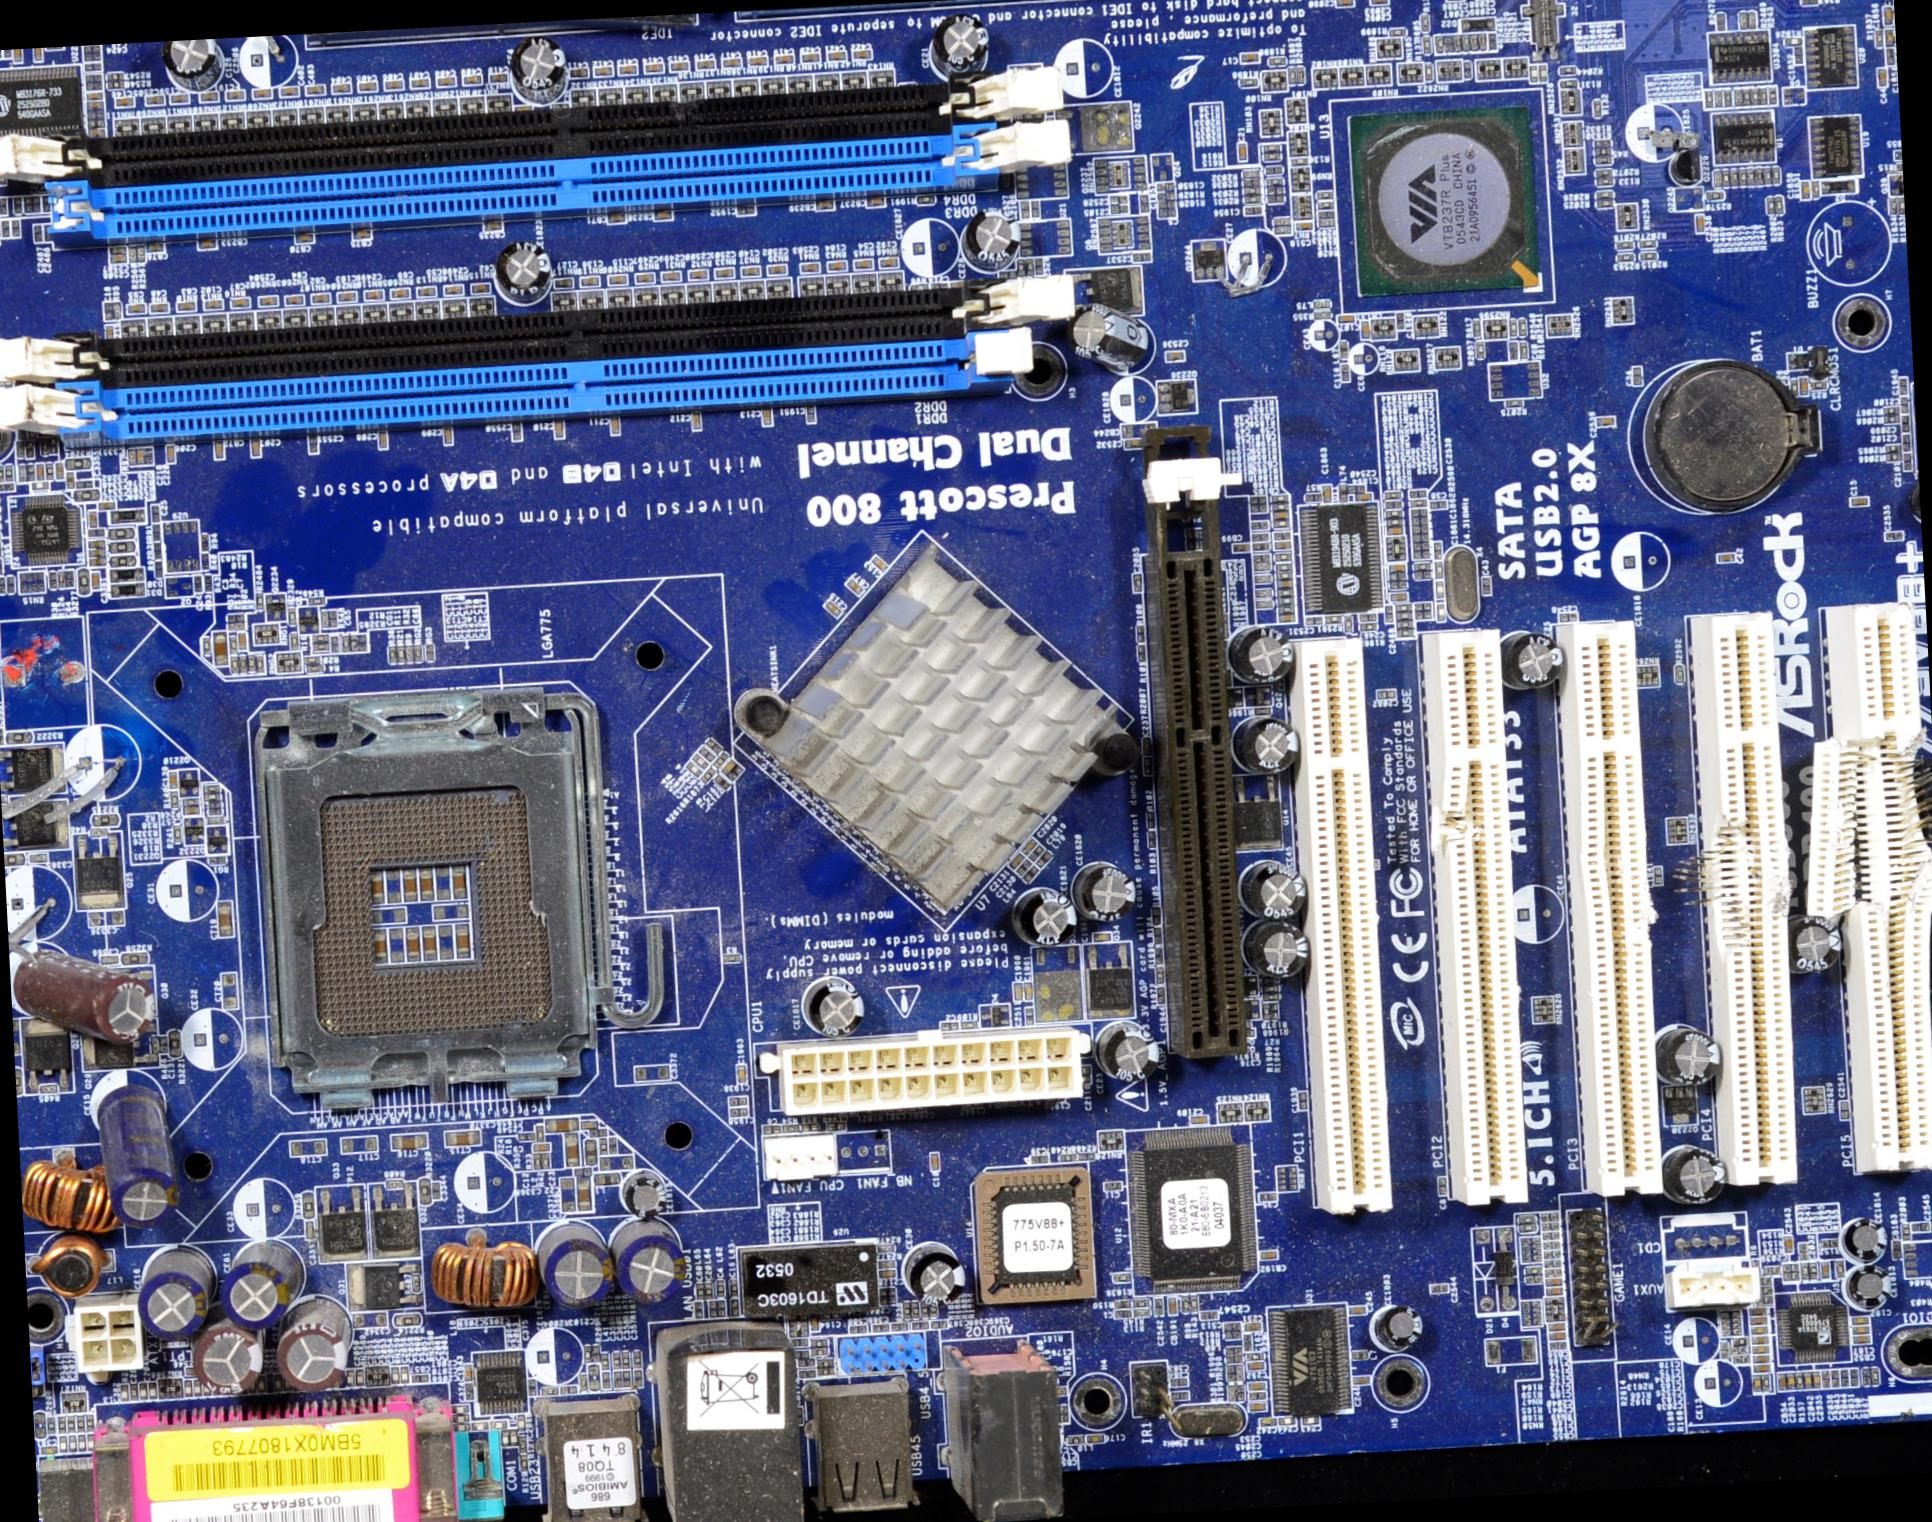Capacitor Jumper: (444, 1130, 480, 1146), (213, 632, 229, 666), (565, 1133, 580, 1166), (216, 900, 231, 936), (392, 1133, 427, 1147), (635, 1066, 668, 1080), (544, 1116, 577, 1130), (577, 1177, 591, 1210), (1595, 414, 1615, 426), (1239, 52, 1259, 63), (1167, 1296, 1178, 1317), (652, 208, 673, 219), (1349, 1304, 1366, 1317), (1276, 1415, 1294, 1428), (852, 49, 870, 60), (463, 74, 481, 85), (488, 72, 507, 83), (279, 86, 298, 97), (1783, 1235, 1794, 1254), (1247, 1361, 1266, 1372), (1247, 1381, 1266, 1392), (1883, 28, 1894, 47), (1877, 67, 1888, 86), (605, 212, 624, 223), (483, 219, 502, 230), (761, 409, 772, 428), (213, 440, 224, 459), (1123, 437, 1142, 448), (1849, 495, 1868, 506), (1850, 1315, 1871, 1325), (1247, 1401, 1267, 1411), (1022, 981, 1033, 998), (1011, 983, 1022, 1000), (384, 78, 401, 89), (146, 94, 163, 105), (1548, 1331, 1565, 1342), (1170, 1378, 1187, 1389), (880, 257, 897, 268), (552, 420, 563, 437), (826, 50, 845, 60), (748, 55, 767, 64), (618, 64, 637, 74), (436, 77, 455, 86), (877, 1268, 895, 1277), (1545, 1287, 1563, 1296), (580, 276, 599, 285), (249, 437, 259, 456), (166, 444, 176, 462), (1800, 376, 1810, 395), (1717, 553, 1736, 563), (801, 52, 817, 63), (1087, 1433, 1102, 1444), (168, 771, 177, 788), (1093, 931, 1110, 940), (670, 61, 687, 71), (729, 1096, 746, 1105), (569, 67, 586, 77), (332, 83, 350, 92), (306, 85, 323, 94), (226, 89, 243, 99), (252, 88, 270, 97), (114, 97, 132, 107), (1882, 6, 1891, 24), (1244, 1321, 1261, 1331), (400, 1365, 409, 1382), (138, 1382, 147, 1400), (39, 1445, 56, 1455), (1170, 1390, 1187, 1400), (1753, 1362, 1770, 1372), (1802, 1372, 1811, 1389), (1777, 1373, 1786, 1390), (1302, 1415, 1319, 1425), (815, 199, 833, 208), (866, 196, 883, 205), (295, 232, 312, 241), (353, 229, 370, 238), (108, 246, 125, 255), (1800, 180, 1810, 197), (828, 260, 845, 270), (801, 262, 819, 271), (688, 270, 706, 279), (635, 273, 652, 282), (662, 273, 679, 282), (554, 277, 571, 287), (444, 285, 461, 295), (365, 290, 383, 299), (232, 298, 249, 307), (285, 295, 303, 304), (692, 411, 701, 428), (442, 426, 452, 444), (376, 431, 386, 448), (33, 47, 42, 64), (808, 1317, 819, 1331), (776, 55, 792, 64), (723, 58, 739, 67), (646, 63, 662, 72), (593, 67, 612, 75), (731, 1108, 746, 1118), (358, 83, 376, 91), (1190, 1114, 1206, 1124), (1261, 1251, 1276, 1260), (1112, 1310, 1131, 1318), (390, 1365, 398, 1384), (1546, 1323, 1565, 1331), (1854, 1334, 1869, 1343), (1752, 1345, 1767, 1354), (1786, 1372, 1796, 1387), (1811, 1372, 1821, 1387), (1752, 1376, 1761, 1392), (1259, 1417, 1275, 1426), (199, 238, 215, 248), (147, 241, 163, 251), (610, 274, 626, 284), (472, 284, 488, 293), (390, 288, 406, 298), (314, 293, 329, 303), (260, 296, 276, 306), (1338, 313, 1356, 321), (1360, 321, 1369, 337), (1165, 353, 1184, 361), (610, 417, 618, 436), (135, 448, 144, 464), (64, 470, 74, 486), (91, 572, 100, 588), (1233, 542, 1248, 552), (182, 806, 199, 814), (737, 1064, 745, 1082), (696, 60, 714, 67), (411, 78, 428, 86), (169, 94, 187, 102), (201, 92, 218, 100), (930, 1154, 938, 1171), (1545, 1279, 1562, 1287), (1821, 1262, 1828, 1279), (345, 1370, 353, 1387), (1749, 1307, 1766, 1315), (1852, 1326, 1869, 1334), (1752, 1354, 1769, 1362), (1352, 1376, 1369, 1384), (853, 260, 870, 268), (767, 265, 784, 273), (715, 270, 732, 277), (742, 268, 759, 276), (337, 292, 354, 299), (204, 299, 221, 307), (151, 303, 168, 310), (177, 301, 194, 309), (36, 462, 44, 480), (97, 502, 114, 509), (1322, 486, 1330, 503), (89, 556, 107, 564), (1273, 541, 1291, 549), (1388, 563, 1405, 571), (238, 633, 246, 650), (419, 287, 433, 296), (533, 1144, 549, 1152), (86, 100, 102, 108), (306, 1221, 314, 1237), (121, 1384, 129, 1400), (1750, 1317, 1766, 1325), (1752, 1326, 1767, 1334), (89, 129, 105, 136), (1237, 143, 1245, 158), (1695, 215, 1703, 230), (127, 304, 143, 312), (88, 541, 103, 549), (88, 549, 103, 556), (1355, 494, 1371, 502), (1294, 223, 1313, 229), (13, 49, 22, 61), (86, 92, 100, 100), (55, 462, 63, 477), (88, 513, 96, 527), (1272, 511, 1286, 519), (1386, 527, 1400, 535), (1276, 580, 1291, 588), (1280, 614, 1294, 622), (580, 1122, 597, 1129), (1389, 592, 1407, 599), (1338, 0, 1353, 6), (729, 1279, 735, 1295), (717, 1281, 723, 1296), (696, 1284, 703, 1299), (464, 1365, 470, 1381), (517, 1415, 524, 1431), (110, 255, 125, 262), (105, 326, 113, 339), (706, 1284, 712, 1298), (1369, 0, 1386, 5), (183, 1368, 196, 1375), (1752, 1337, 1767, 1342)
Connector: (61, 125, 1005, 237), (74, 279, 991, 384), (75, 337, 990, 442), (44, 88, 986, 179), (1414, 630, 1532, 1194), (1551, 616, 1662, 1199), (1684, 610, 1792, 1191), (1821, 607, 1930, 1179), (1289, 638, 1391, 1205), (1151, 473, 1244, 1074), (86, 1403, 480, 1520), (655, 1328, 812, 1520), (936, 1342, 1059, 1520), (528, 1397, 648, 1520), (304, 13, 699, 47), (812, 1381, 906, 1520)
IC: (1129, 1124, 1256, 1284), (969, 1158, 1099, 1303), (1270, 1304, 1355, 1417), (0, 484, 85, 566), (0, 66, 86, 136), (1775, 1288, 1852, 1365), (1706, 27, 1772, 86), (1807, 111, 1863, 177), (1802, 24, 1857, 89), (1711, 110, 1774, 165)
Resistor Jumper: (5, 730, 33, 745), (301, 1191, 314, 1219), (121, 951, 147, 964), (168, 1031, 180, 1058), (394, 1314, 420, 1326), (108, 541, 135, 553), (77, 567, 89, 594), (419, 1179, 431, 1204), (108, 527, 133, 539), (91, 814, 118, 824), (63, 458, 89, 469), (1473, 339, 1485, 361), (74, 489, 99, 500), (110, 555, 135, 566), (5, 854, 27, 865), (16, 1067, 24, 1096), (56, 1415, 67, 1434), (1313, 309, 1331, 320), (89, 828, 110, 837), (1242, 1353, 1262, 1362), (1237, 77, 1258, 86), (238, 654, 248, 674), (1738, 11, 1749, 28), (75, 1415, 86, 1433), (1317, 216, 1335, 227), (1615, 238, 1632, 249), (1639, 238, 1656, 249), (289, 633, 300, 650), (411, 643, 422, 660), (1261, 992, 1280, 1002), (64, 1415, 74, 1434), (1593, 99, 1603, 118), (1473, 318, 1482, 337), (1518, 340, 1527, 359), (1504, 398, 1523, 408), (287, 607, 296, 625), (310, 643, 329, 652), (1179, 1296, 1190, 1312), (229, 633, 237, 655), (1673, 665, 1683, 682), (723, 953, 740, 962), (1419, 14, 1429, 31), (387, 1180, 405, 1190), (1469, 33, 1479, 50), (1520, 1223, 1537, 1232), (910, 1303, 919, 1320), (1835, 1260, 1844, 1277), (85, 1414, 94, 1431), (1295, 66, 1305, 83), (1286, 66, 1295, 83), (1749, 88, 1758, 105), (1738, 168, 1747, 185), (1772, 196, 1781, 213), (1789, 378, 1799, 395), (1386, 508, 1404, 517), (310, 633, 328, 643), (340, 633, 350, 650), (395, 644, 405, 661), (303, 655, 320, 665), (254, 657, 263, 674), (1703, 91, 1714, 105), (1278, 596, 1292, 607), (1261, 986, 1280, 994), (1389, 28, 1405, 38), (1747, 13, 1756, 28), (877, 1243, 892, 1252), (1520, 1215, 1535, 1224), (1421, 36, 1430, 52), (1477, 34, 1487, 50), (1526, 1265, 1542, 1274), (1190, 1295, 1198, 1314), (541, 1386, 557, 1395), (516, 1436, 525, 1451), (1871, 1367, 1879, 1386), (1068, 1436, 1084, 1445), (1557, 66, 1573, 75), (916, 196, 935, 204), (1242, 185, 1261, 193), (1317, 190, 1333, 199), (1640, 251, 1656, 260), (1810, 379, 1825, 389), (1383, 519, 1402, 527), (202, 636, 210, 655), (387, 646, 397, 661), (169, 790, 177, 807), (172, 824, 180, 842), (158, 1036, 166, 1053), (151, 1036, 158, 1053), (960, 1020, 977, 1028), (1902, 1223, 1910, 1240), (902, 1303, 910, 1320), (1132, 1309, 1149, 1317), (632, 1350, 640, 1367), (811, 1348, 828, 1356), (817, 1359, 834, 1367), (1874, 30, 1882, 47), (1560, 80, 1578, 88), (1742, 88, 1750, 105), (1593, 155, 1611, 163), (1242, 196, 1259, 204), (1596, 179, 1614, 187), (1747, 168, 1755, 185), (1317, 199, 1335, 207), (1595, 190, 1612, 197), (1706, 191, 1723, 199), (1596, 199, 1614, 207), (1896, 197, 1904, 215), (113, 303, 121, 320), (1509, 320, 1516, 337), (127, 448, 135, 466), (1883, 444, 1901, 451), (1272, 503, 1289, 511), (405, 644, 412, 661), (425, 644, 433, 661), (306, 665, 323, 672), (1154, 948, 1164, 962), (599, 1354, 608, 1368), (1720, 169, 1730, 183), (1618, 252, 1632, 262), (1396, 603, 1410, 613), (1396, 610, 1410, 619), (1342, 616, 1352, 630), (204, 793, 220, 801), (41, 1085, 56, 1093), (1060, 1154, 1076, 1161), (1113, 1273, 1129, 1281), (1113, 1299, 1129, 1307), (1800, 1263, 1808, 1279), (1810, 1263, 1818, 1279), (612, 1353, 619, 1368), (621, 1351, 629, 1367), (817, 1367, 833, 1375), (47, 1417, 55, 1433), (519, 1455, 527, 1470), (1424, 64, 1432, 80), (1723, 89, 1731, 105), (1593, 138, 1609, 146), (1593, 146, 1609, 154), (1595, 168, 1611, 176), (129, 246, 136, 262), (138, 246, 146, 262), (1755, 168, 1763, 183), (1764, 168, 1772, 183), (1766, 196, 1774, 212), (1888, 197, 1896, 213), (1885, 451, 1901, 459), (1272, 494, 1287, 502), (1272, 519, 1287, 527), (1276, 563, 1292, 571), (1278, 588, 1294, 596), (1278, 605, 1294, 613), (1324, 614, 1339, 622), (1396, 619, 1411, 627), (1361, 622, 1377, 630), (1396, 629, 1411, 636), (108, 72, 122, 80), (108, 80, 122, 88), (1156, 967, 1164, 981), (535, 1125, 543, 1140), (533, 1154, 541, 1168), (130, 1386, 138, 1400), (1758, 88, 1766, 102), (1772, 168, 1780, 182), (5, 466, 13, 480), (1883, 406, 1897, 414), (1885, 414, 1899, 422), (1385, 492, 1399, 500), (1410, 498, 1424, 506), (1275, 552, 1289, 560), (583, 1345, 590, 1362), (248, 655, 254, 672), (232, 657, 238, 674), (204, 785, 220, 792), (541, 1152, 547, 1168), (1132, 1299, 1148, 1306), (811, 1340, 826, 1346), (580, 1373, 586, 1389), (1785, 38, 1800, 44), (1796, 1373, 1802, 1389), (1769, 88, 1775, 103), (1731, 168, 1738, 183), (256, 594, 262, 610), (309, 597, 325, 603), (0, 464, 5, 483), (58, 572, 64, 586), (1278, 572, 1292, 578), (1894, 163, 1902, 172)
Transistor: (74, 829, 129, 909), (367, 1179, 420, 1259), (0, 743, 71, 799), (320, 1182, 367, 1265), (2, 801, 67, 845)
